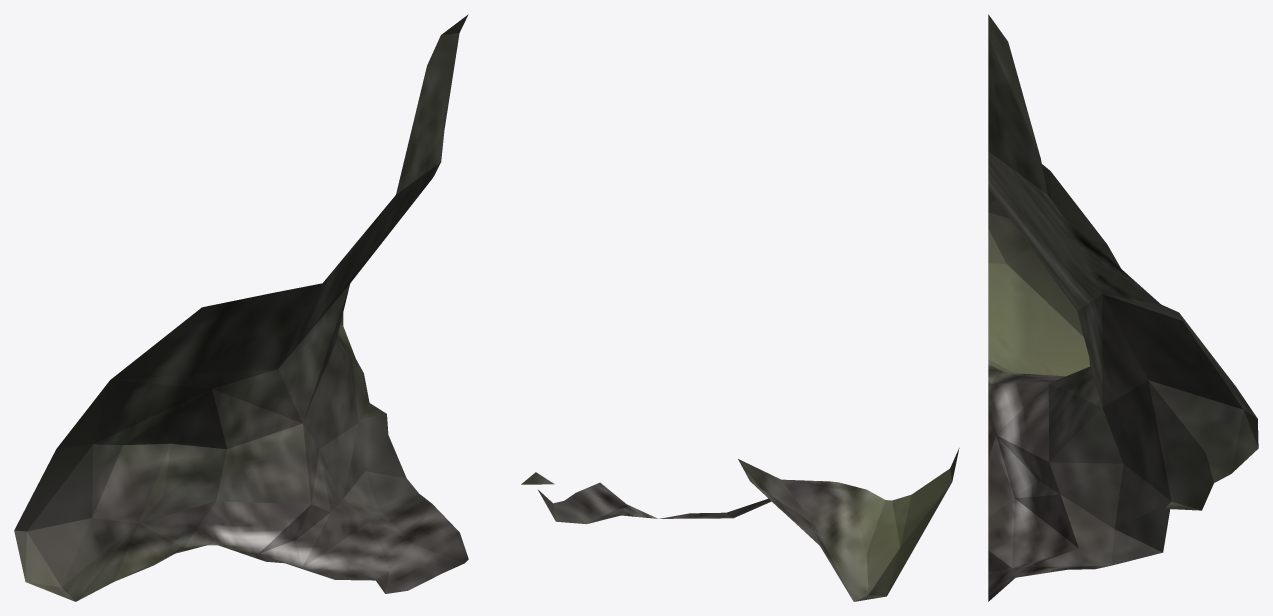
3 renders of one model, left to right at view 1: azimuth 30°, elevation 25°; view 2: azimuth 150°, elevation 25°; view 3: azimuth 270°, elevation 25°, orthographic. The views are drawn at different scales.
Bounding box in the file's own units: 3 × 4.02 × 1.63.
1 material, 1 textured.
